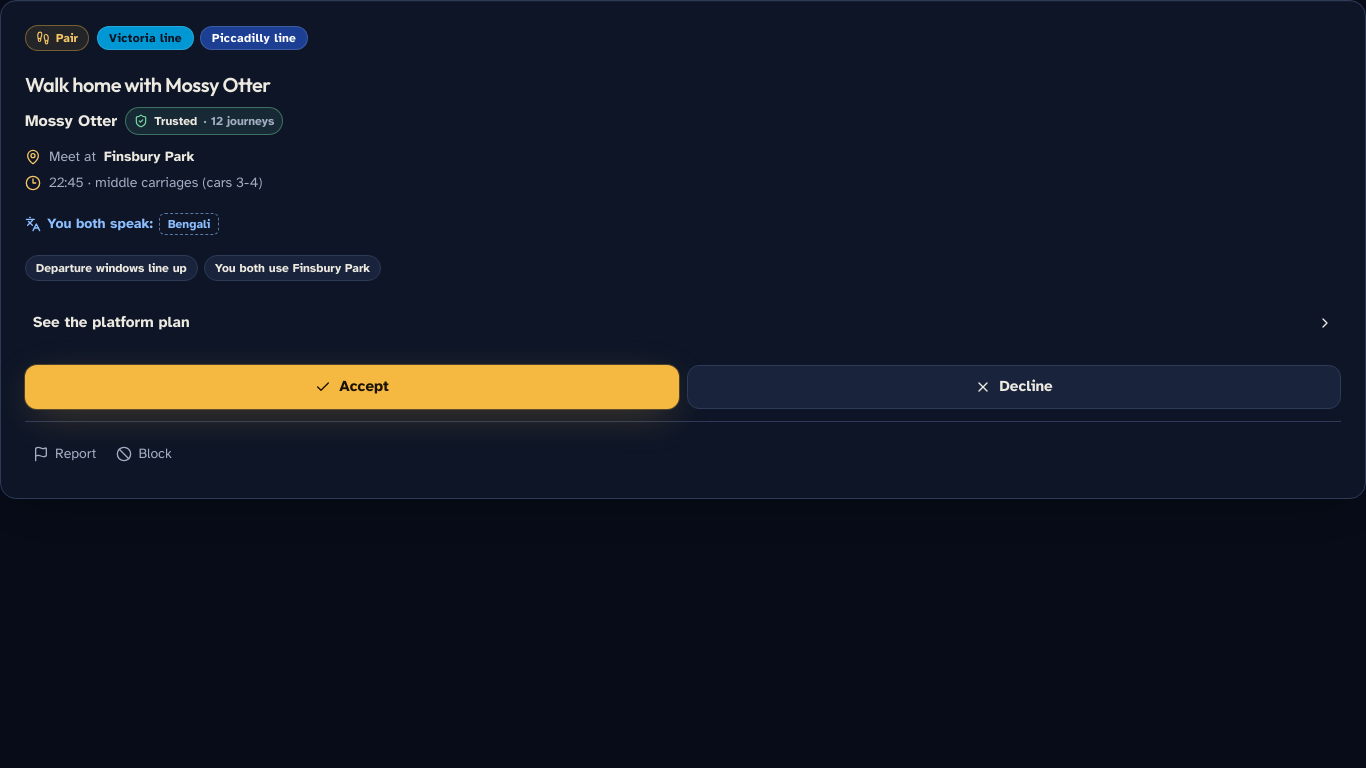
Test: <MatchCard> accept flow › accept → waiting → check again → mutual accept opens the in-app chat
Click the button "Accept" at (352, 386), box [25, 364, 679, 408]
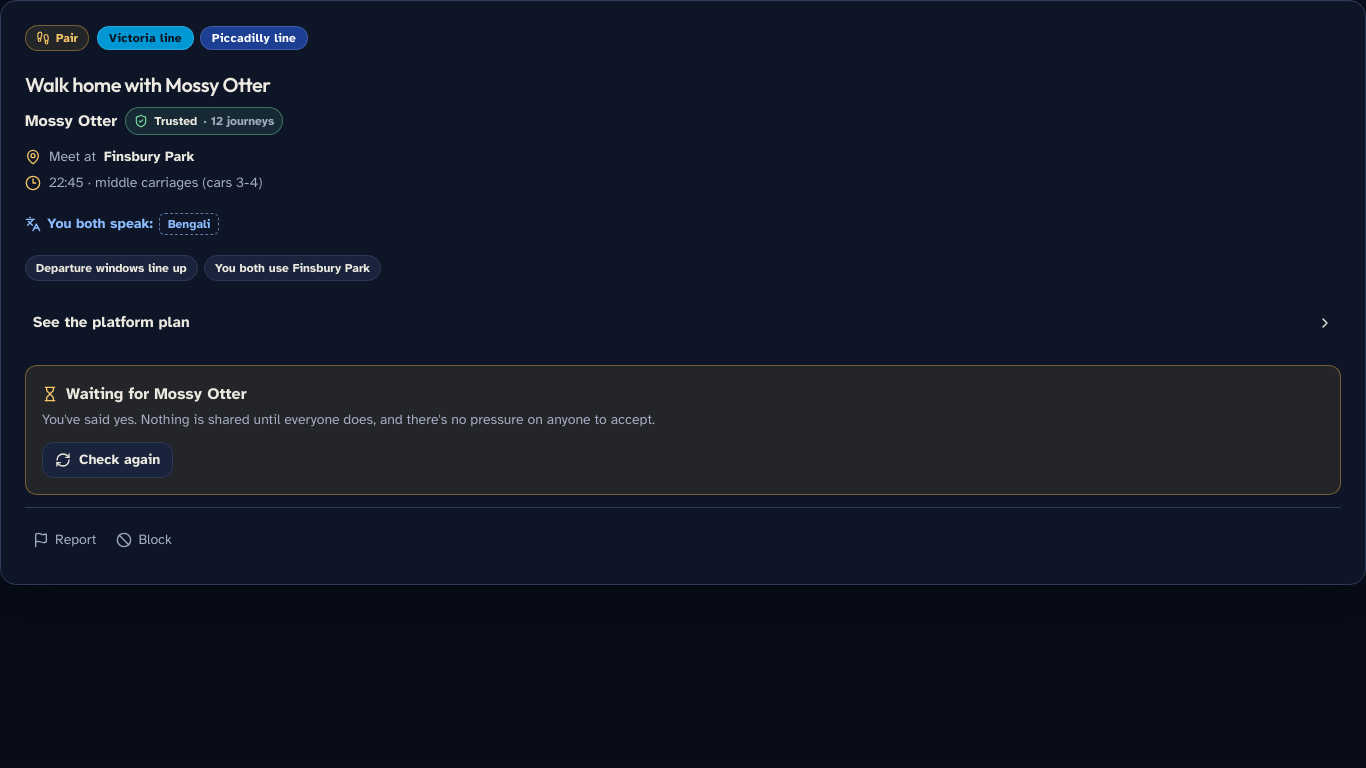
Now the text "Waiting for Mossy Otter" is shown, box [42, 384, 247, 404]
Click the button "Check again" at (108, 460), box [42, 442, 173, 478]
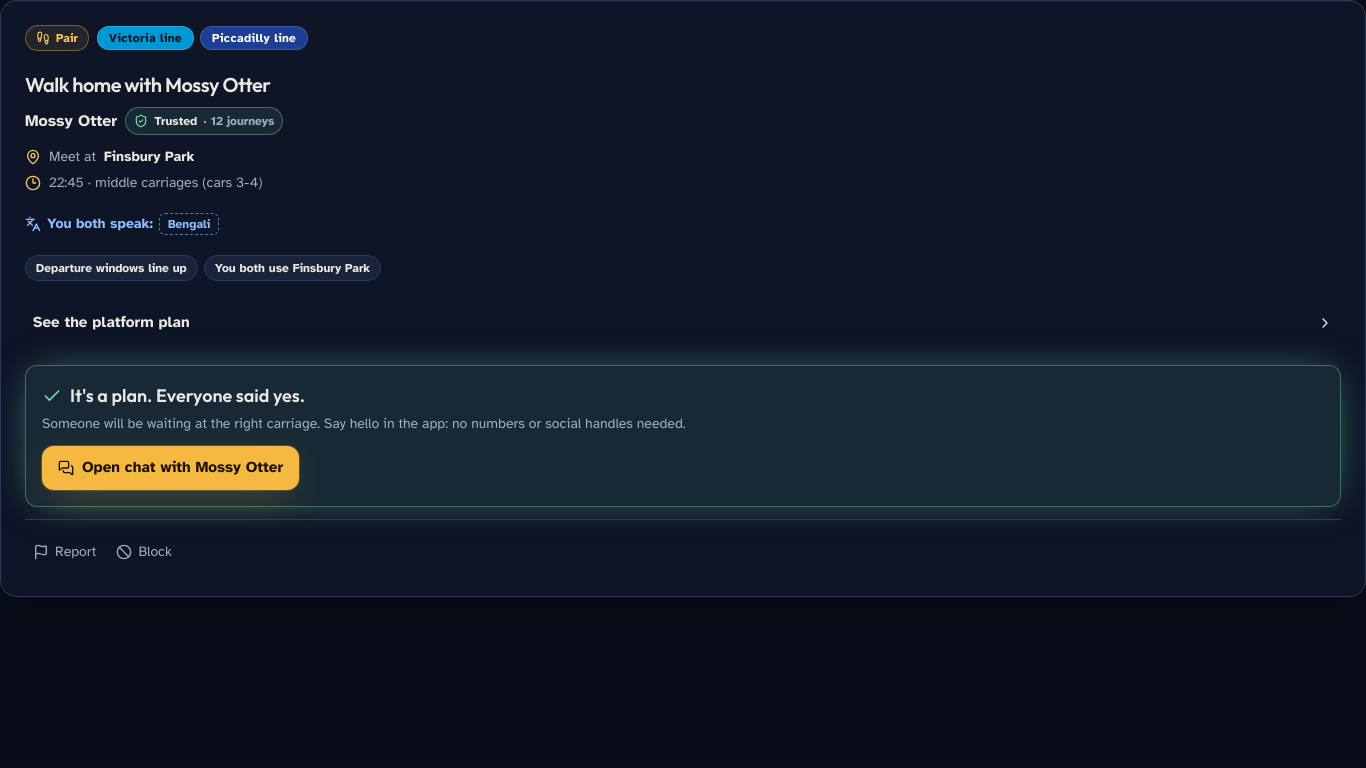
Now the text "It's a plan. Everyone said yes." is shown, box [42, 384, 305, 406]
